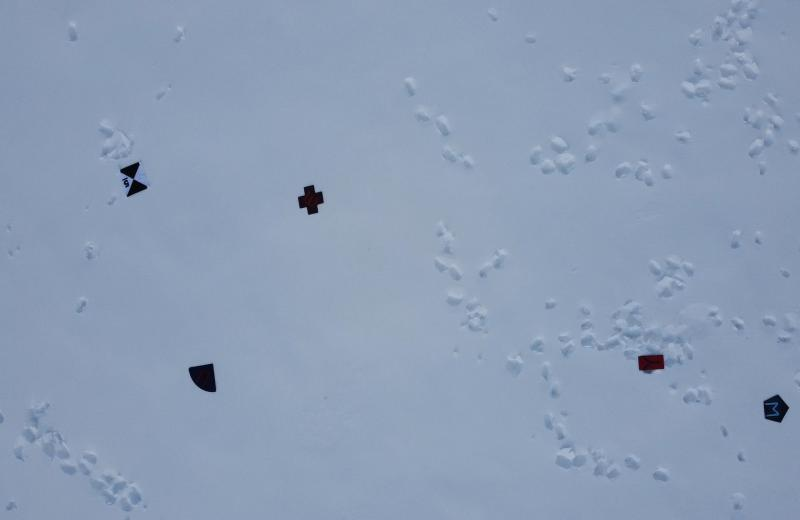Cross: (295, 179, 324, 216)
Pentagon: (762, 389, 789, 428)
Quarter Circle: (188, 360, 220, 398)
Rectangle: (636, 349, 672, 376)
